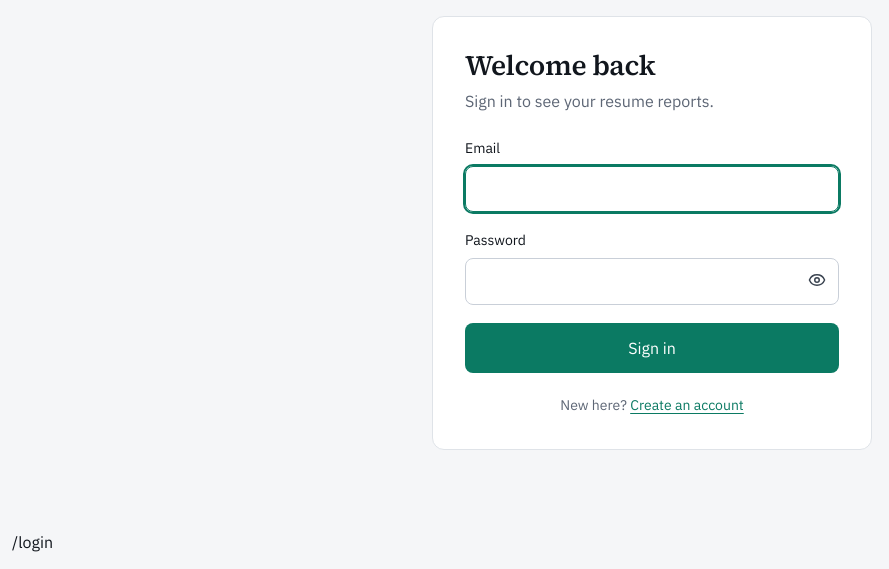
Login › toggles password visibility with an accessible control
Click the button named "Show password" at (817, 280), box [797, 260, 837, 300]
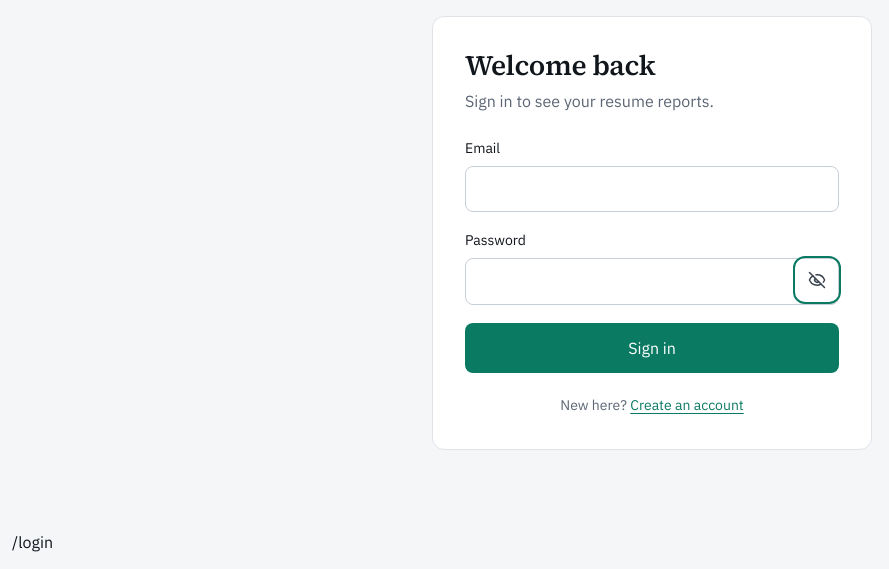
Result: the button named "Hide password" is shown at [797, 260, 837, 300]
